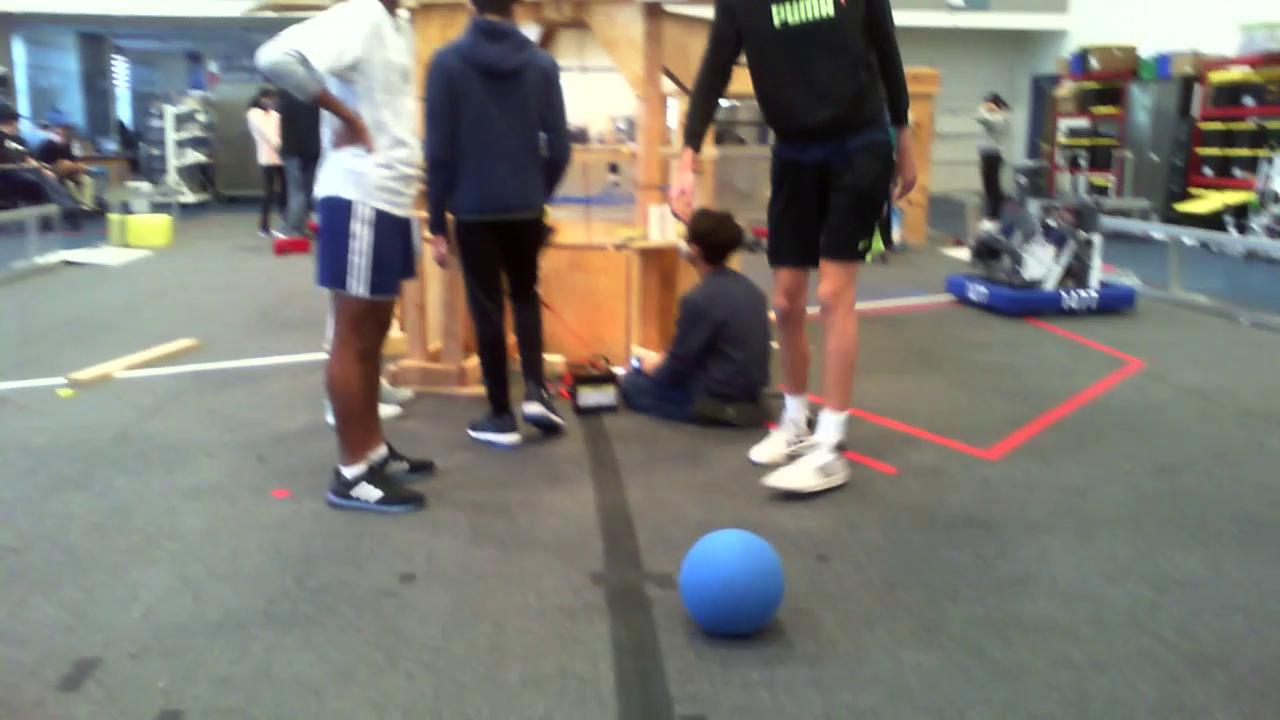robot: (941, 216, 1134, 319)
